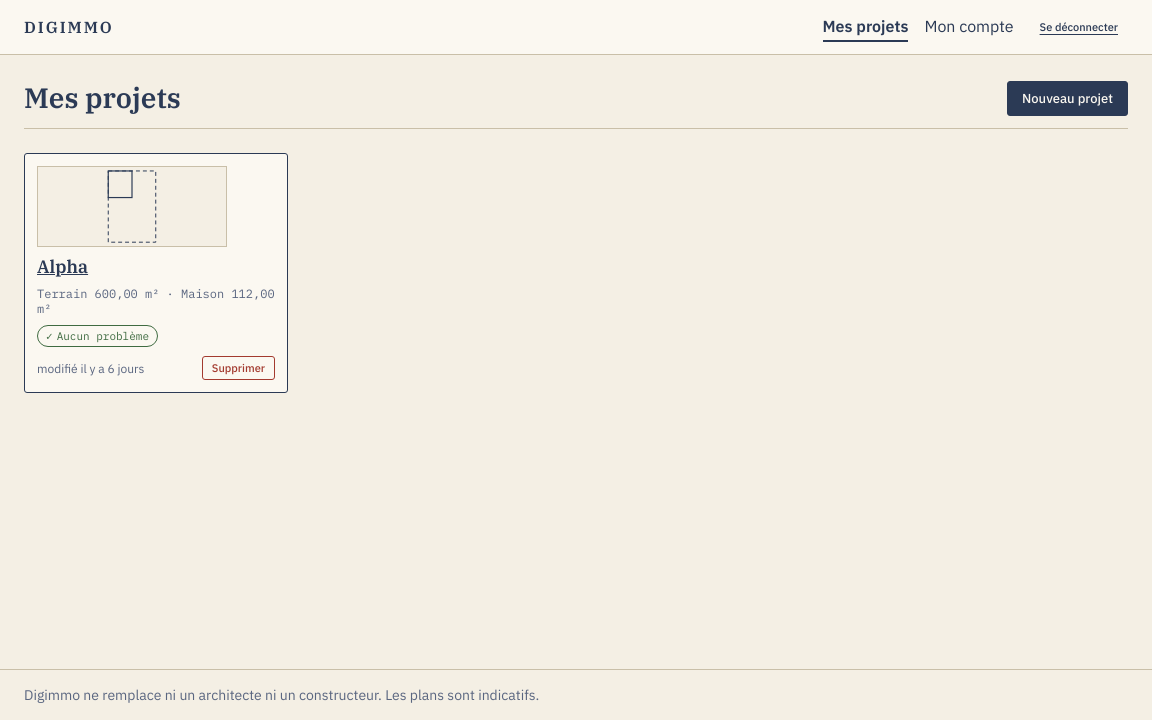
Scenario: tableau de bord › Annuler la suppression : aucune requête
Click the button with aria-label "Supprimer Alpha" at (238, 368), box x1=202 y1=356 x2=275 y2=380
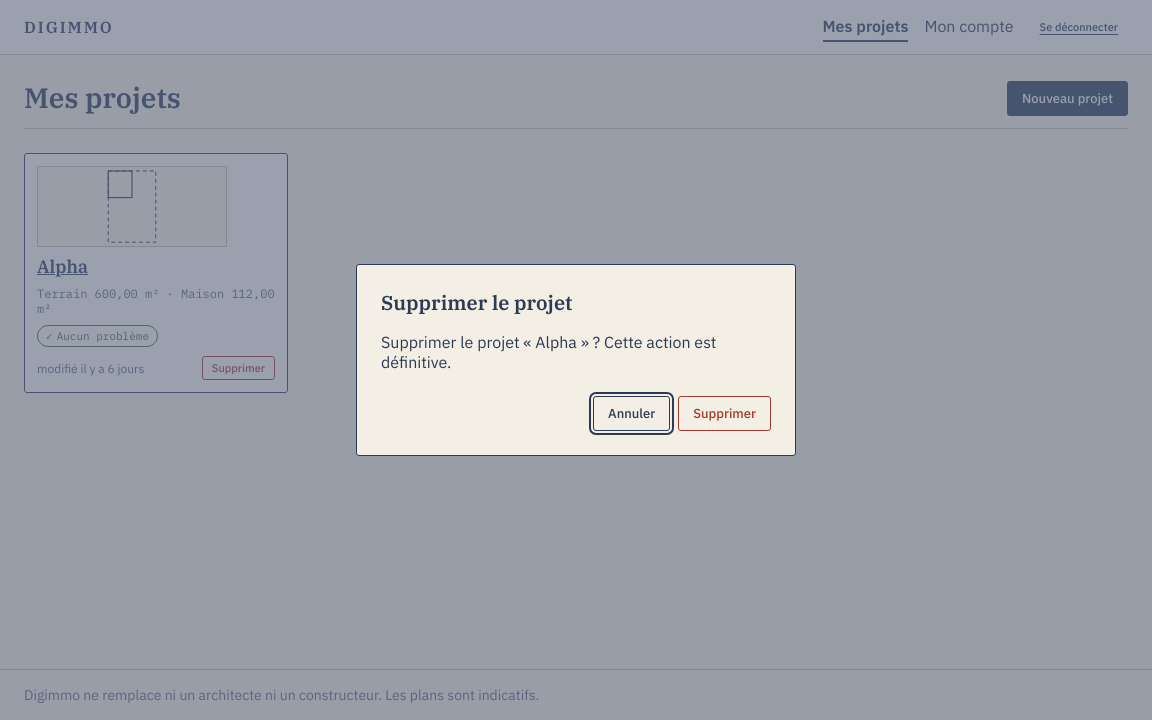
Now the dialog shows "Supprimer le projet « Alpha » ? Cette action est définitive.", box x1=356 y1=264 x2=796 y2=456
Click the button "Annuler" at (632, 414), box x1=593 y1=396 x2=670 y2=431
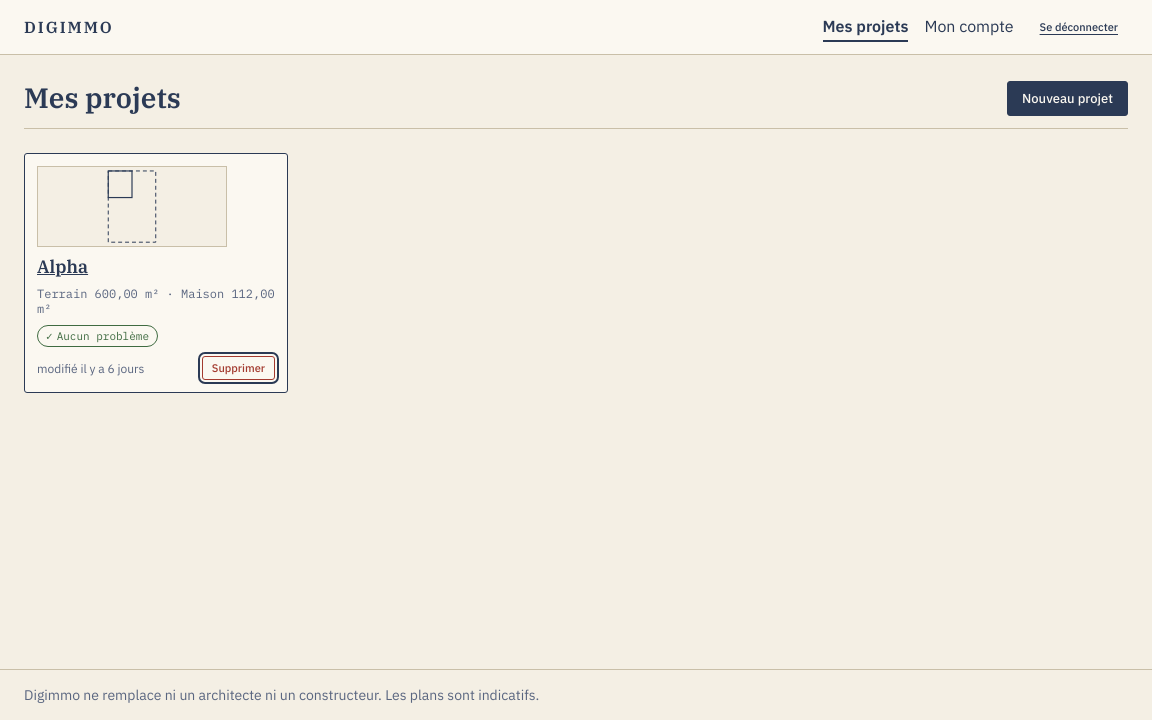
Expected: the link "Alpha" is shown, x1=37 y1=255 x2=88 y2=278
Now the dialog is gone
